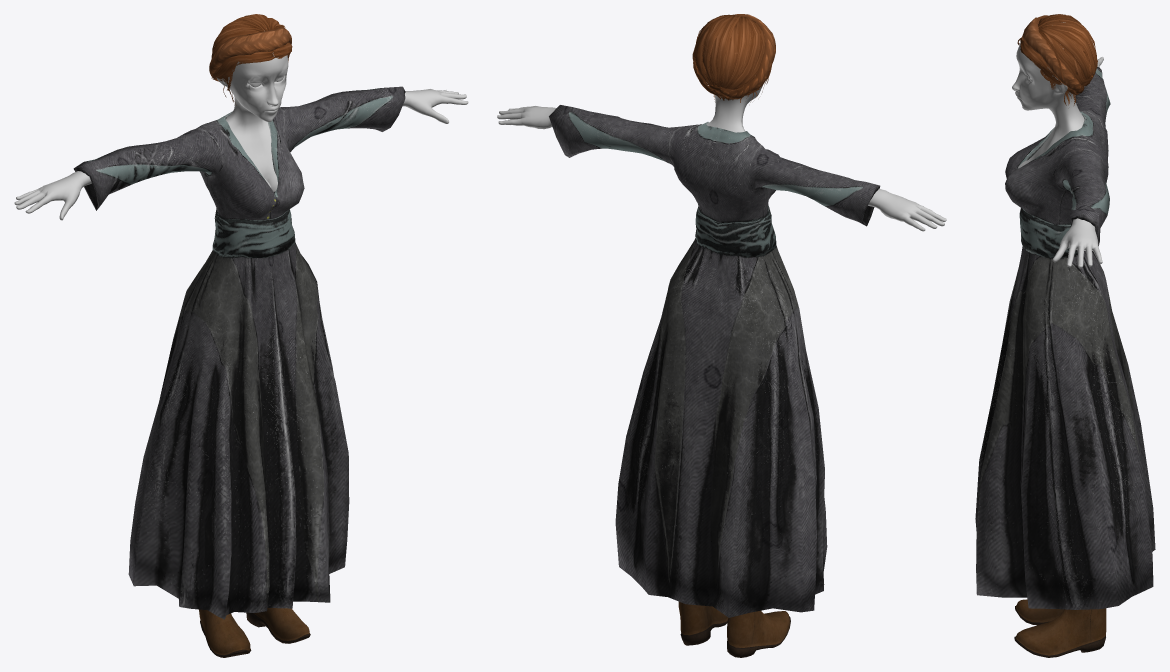
Rendered from NPC #004 mulher que varre o chão.fbx.
3 views of the same model, side by side, from view 1: azimuth 30°, elevation 25°; view 2: azimuth 150°, elevation 25°; view 3: azimuth 270°, elevation 25° (orthographic).
Parts seen in each view (by area): view 1: Tops, NPC #005 mulher que se locomove de um ponto ao outro, Hair, Shoes; view 2: Tops, Hair, Shoes, NPC #005 mulher que se locomove de um ponto ao outro; view 3: Tops, NPC #005 mulher que se locomove de um ponto ao outro, Hair, Shoes.
Part boxes in pixels (x1=…): Tops: x1=73, y1=86, x2=405, y2=619; NPC #005 mulher que se locomove de um ponto ao outro: x1=14, y1=52, x2=468, y2=220; Hair: x1=209, y1=14, x2=292, y2=105; Shoes: x1=198, y1=607, x2=310, y2=657; Tops: x1=549, y1=105, x2=880, y2=617; Hair: x1=692, y1=14, x2=775, y2=102; Shoes: x1=678, y1=601, x2=790, y2=657; NPC #005 mulher que se locomove de um ponto ao outro: x1=497, y1=84, x2=946, y2=231; Tops: x1=975, y1=67, x2=1155, y2=609; NPC #005 mulher que se locomove de um ponto ao outro: x1=1012, y1=22, x2=1103, y2=268; Hair: x1=1017, y1=14, x2=1097, y2=105; Shoes: x1=1014, y1=599, x2=1106, y2=657.
Bounding box in the file's own units: 158 × 209 × 55.19.
